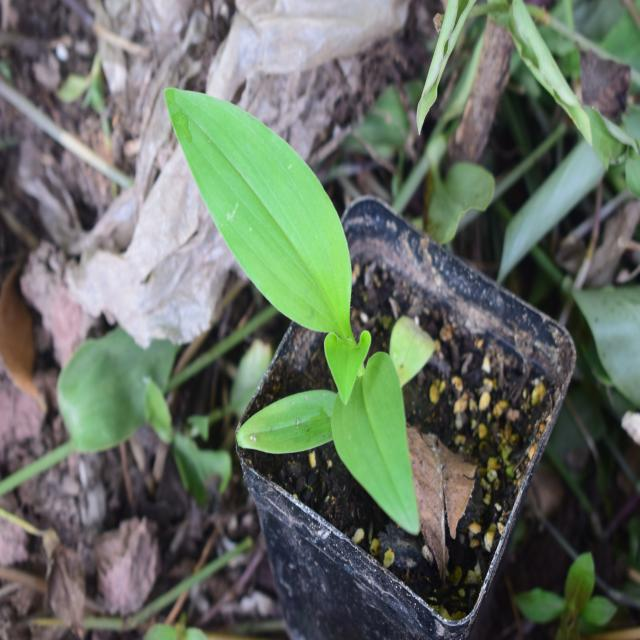Common Dayflower: (166, 80, 426, 540)
